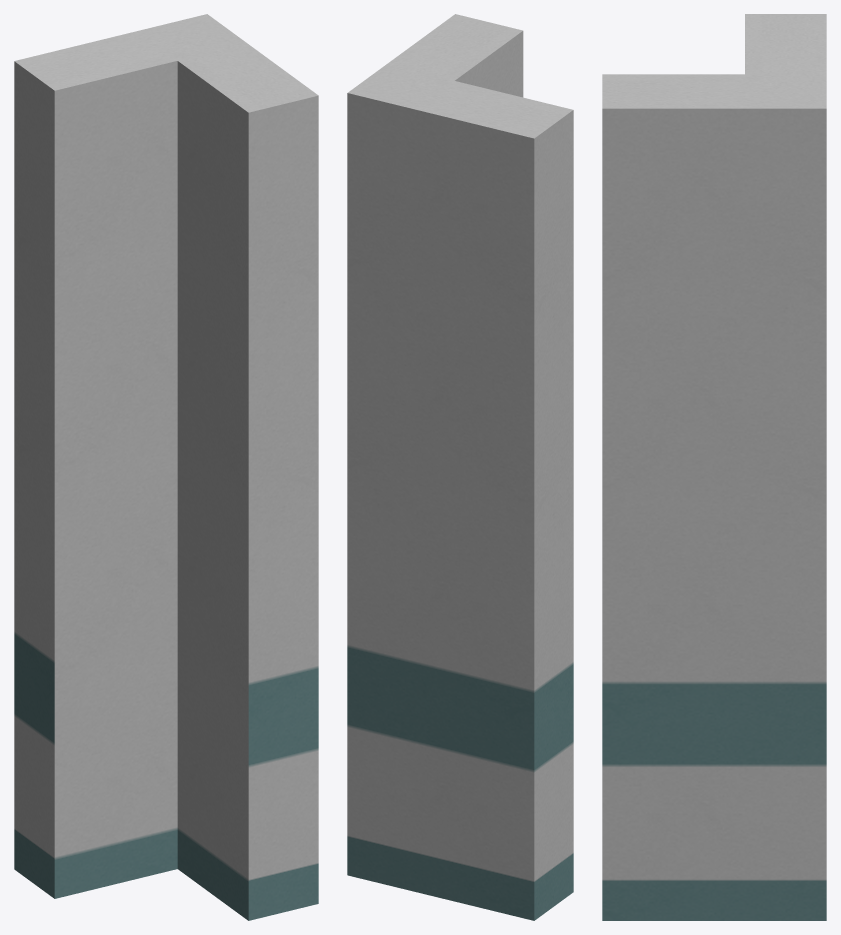
File: wall small corner2.FBX
The picture shows the model from 3 angles, left to right: view 1: azimuth 30°, elevation 25°; view 2: azimuth 150°, elevation 25°; view 3: azimuth 270°, elevation 25°; orthographic projection. The views are drawn at different scales.
Parts seen in each view (by area): view 1: wall small corner2; view 2: wall small corner2; view 3: wall small corner2.
Boxes of the visible parts, box(x1,y1,x2,y2) form: wall small corner2: box(14, 14, 318, 920); wall small corner2: box(347, 14, 573, 920); wall small corner2: box(602, 14, 826, 920).
Bounding box in the file's own units: 27.5 × 27.5 × 110.
